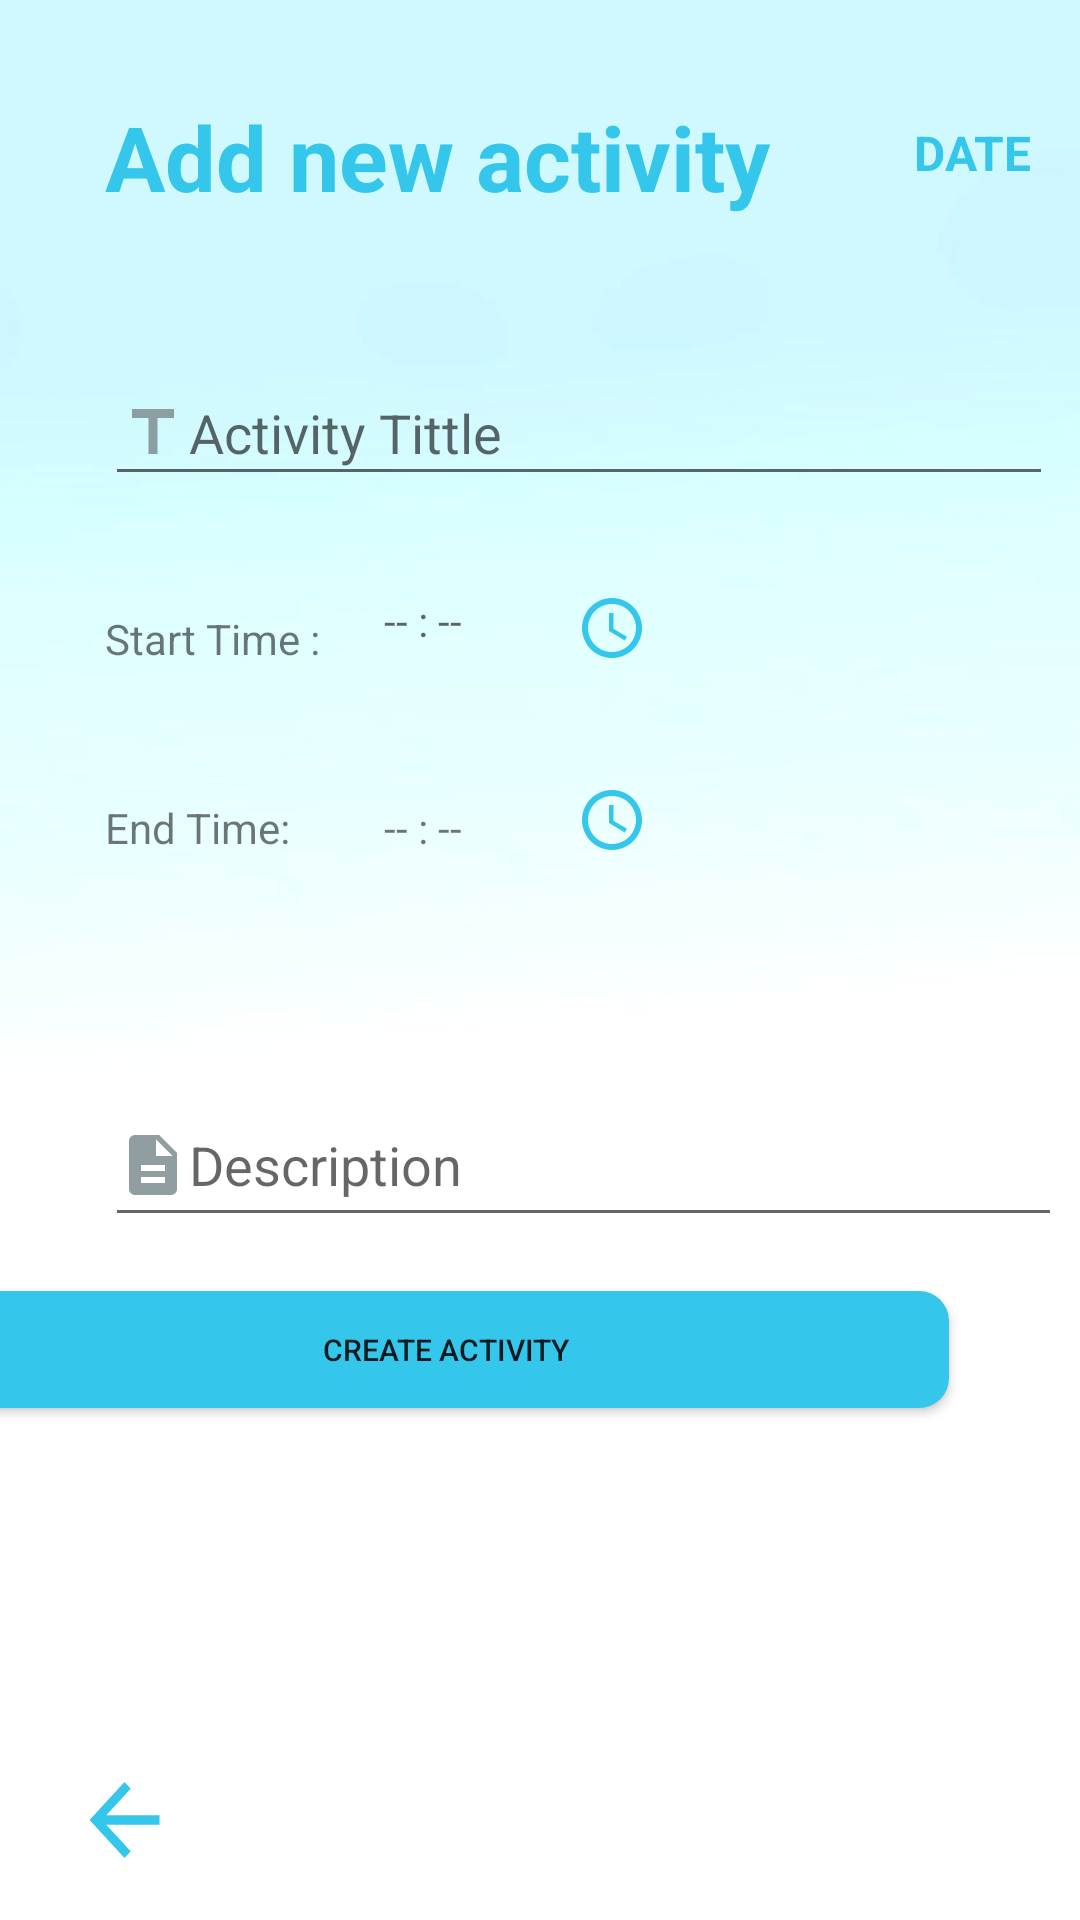

Named icons in this screenshot (1080w x 1920h) and their bounding boxes, (x1, y1, x2, y2):
arrow back: (89, 1782, 160, 1858)
choose time: (582, 598, 642, 658), (582, 790, 642, 850)
